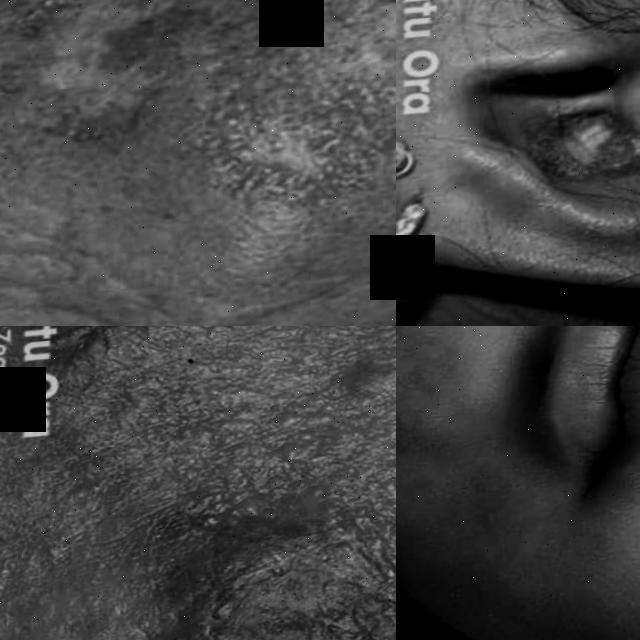lupus-detected: (0, 0, 396, 313), (0, 326, 283, 499), (129, 470, 396, 640), (474, 15, 640, 260)
